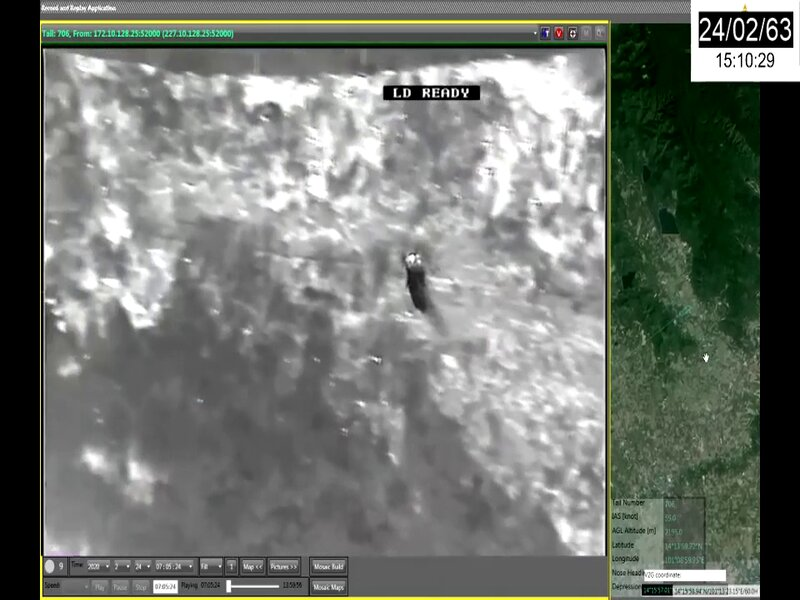Fire: (483, 56, 603, 281)
